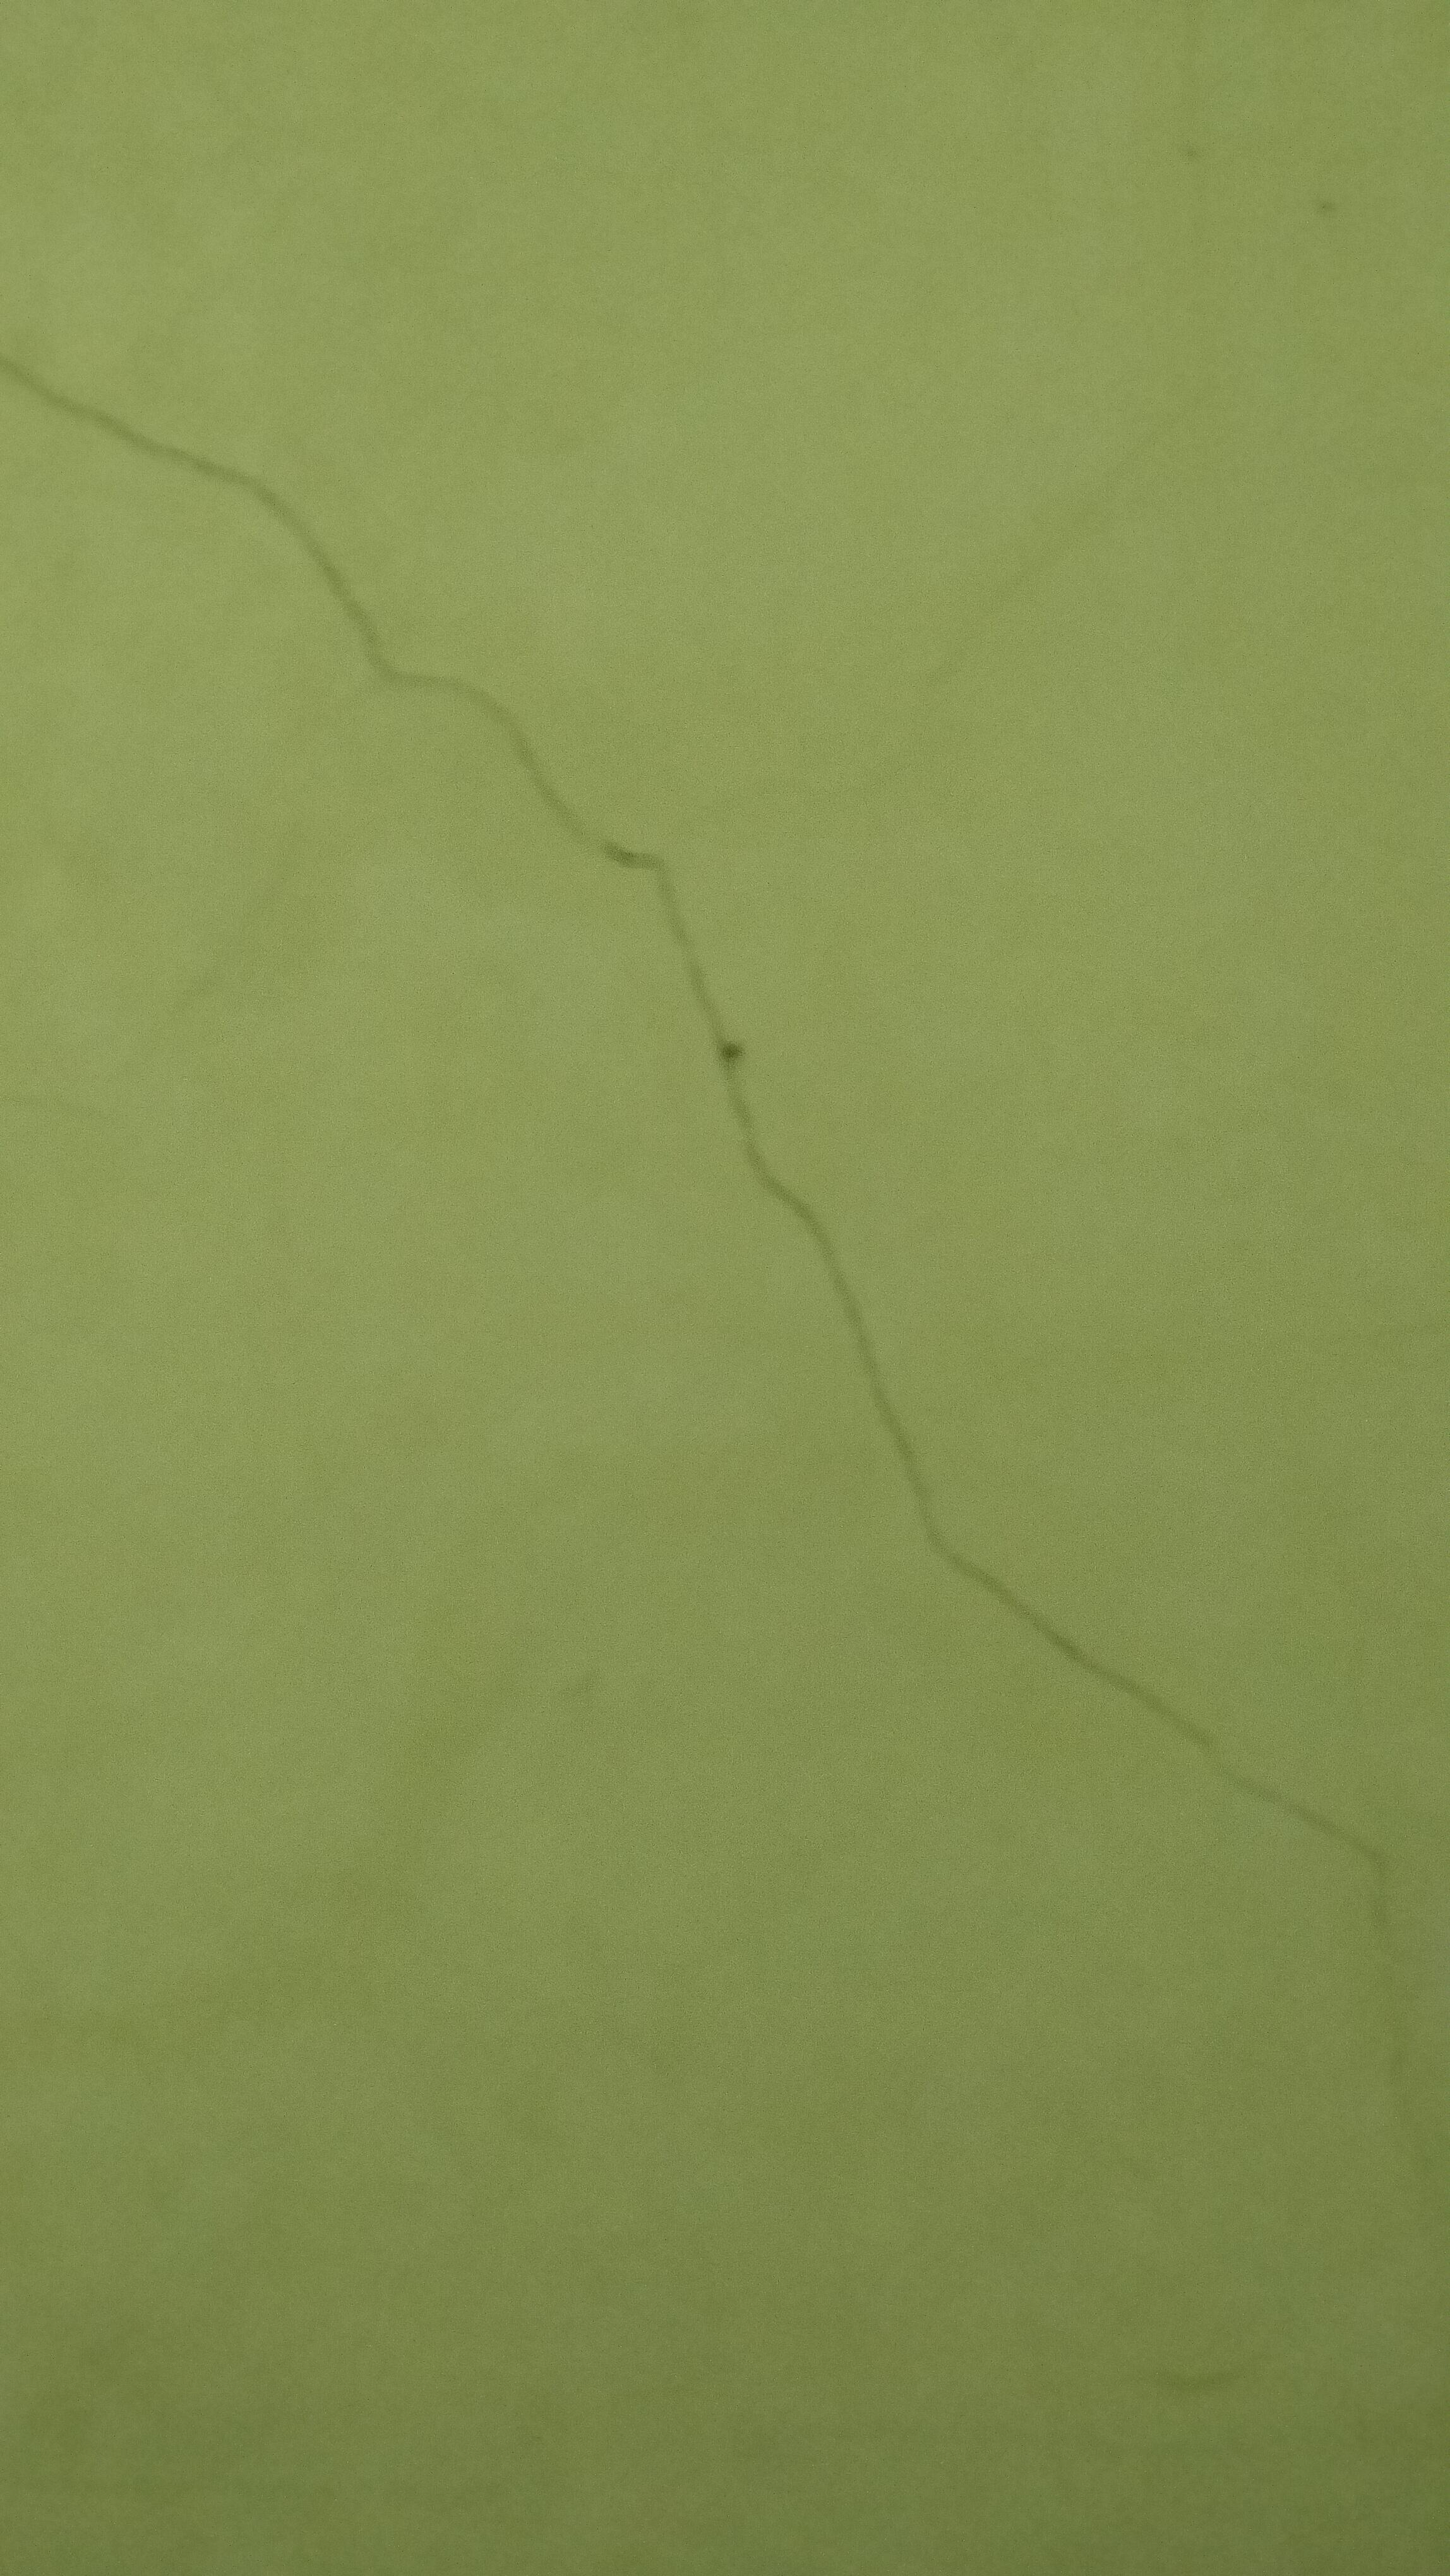Crack: (0, 315, 692, 920), (652, 862, 1020, 1610), (997, 1550, 1413, 1983)
